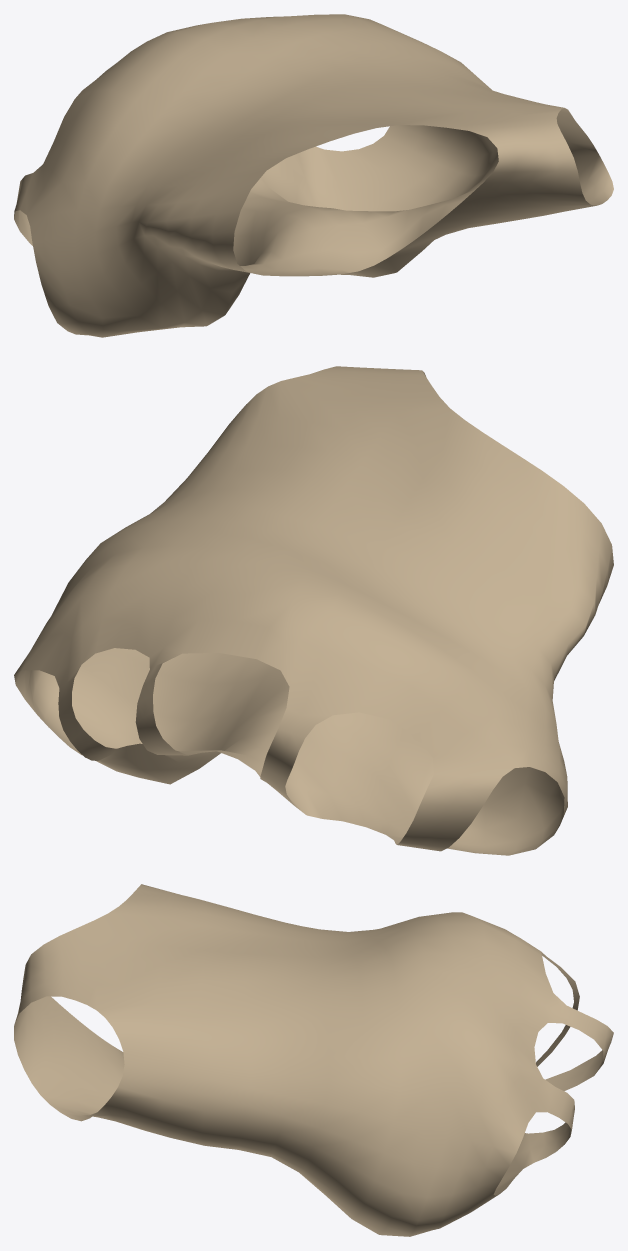
The picture shows the model from 3 angles, top to bottom: view 1: azimuth 30°, elevation 25°; view 2: azimuth 150°, elevation 25°; view 3: azimuth 270°, elevation 25°; orthographic projection. The views are drawn at different scales.
Parts seen in each view (by area): view 1: 右侧桡腕关节囊; view 2: 右侧桡腕关节囊; view 3: 右侧桡腕关节囊.
Part boxes in pixels (x1=…): 右侧桡腕关节囊: x1=14, y1=14, x2=613, y2=337; 右侧桡腕关节囊: x1=14, y1=366, x2=613, y2=855; 右侧桡腕关节囊: x1=14, y1=884, x2=613, y2=1236.
Bounding box in the file's own units: 0.0809 × 0.0446 × 0.0901.
